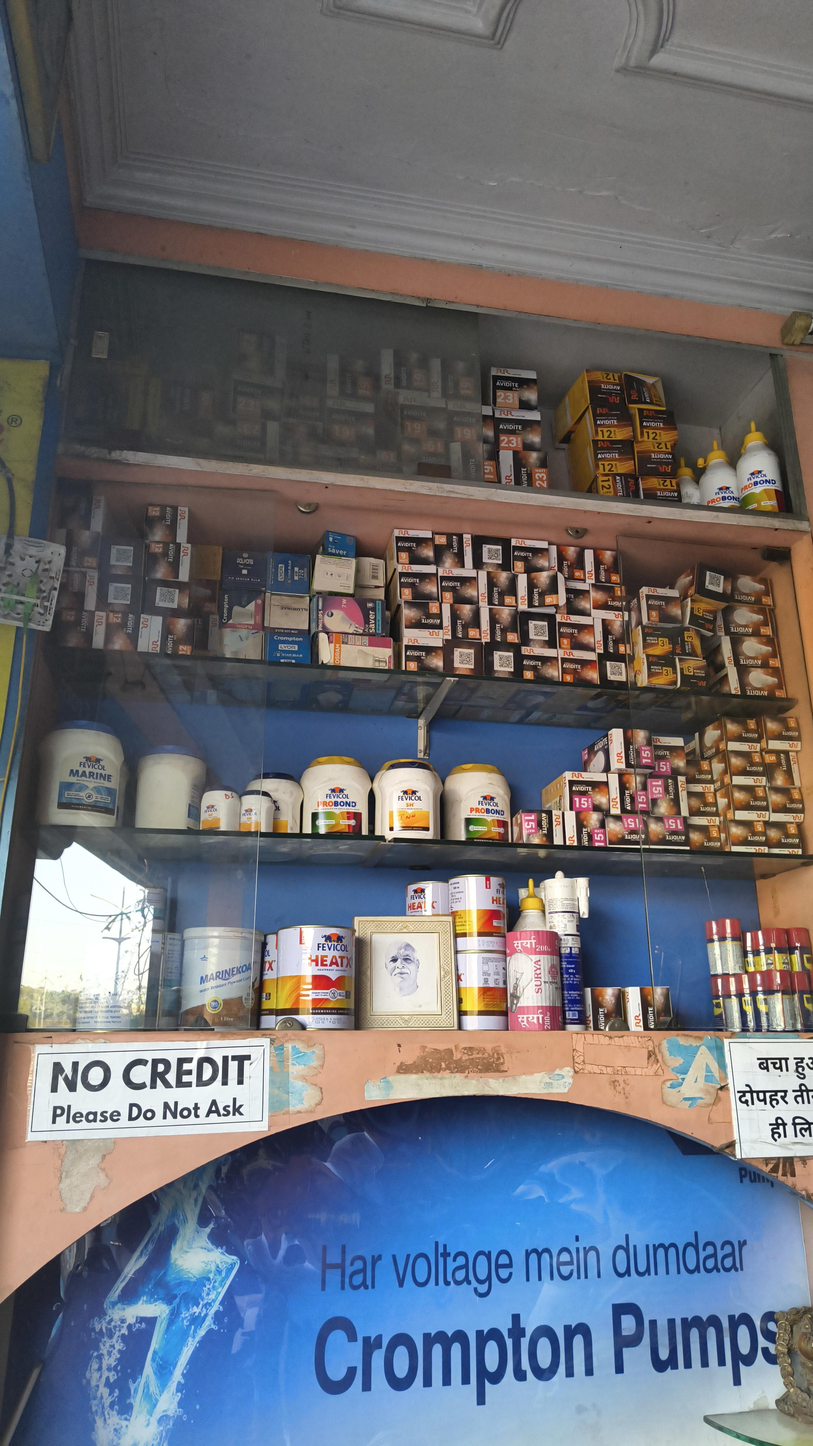Fevicol_HEATX: (275, 926, 355, 1029), (449, 875, 506, 949), (456, 950, 508, 1031), (260, 933, 277, 1026), (405, 881, 449, 915)
